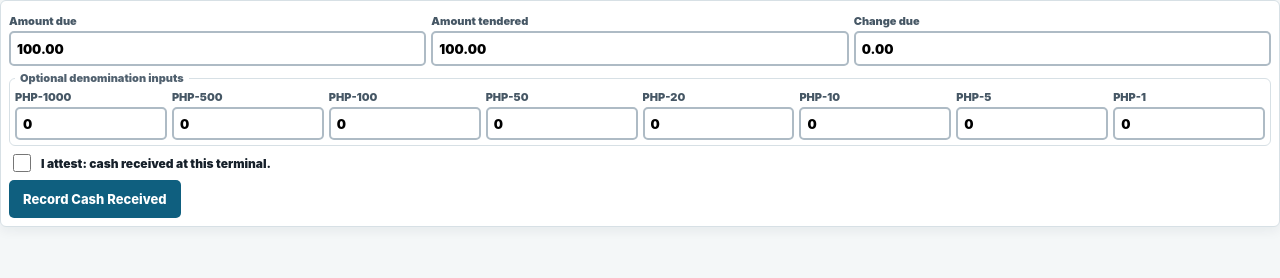
Test: CashCapturePanel › blocks CASH_RECEIVED when immediate statutory revalidation changes the amount
Step 1. Replace the text in the field labelled "Amount tendered" with "150" → (640, 48), box [431, 31, 849, 66]
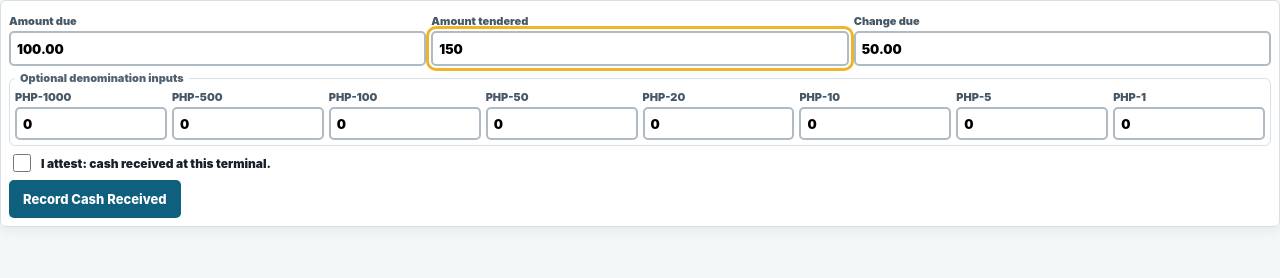
Step 2. Click the checkbox labelled "I attest: cash received at this terminal." → (22, 163), box [13, 154, 31, 172]
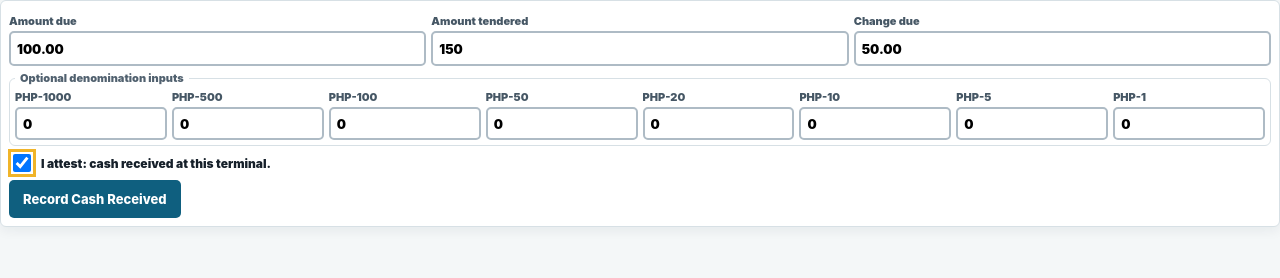
Step 3. Click the button "Record Cash Received" → (95, 199), box [9, 180, 180, 218]
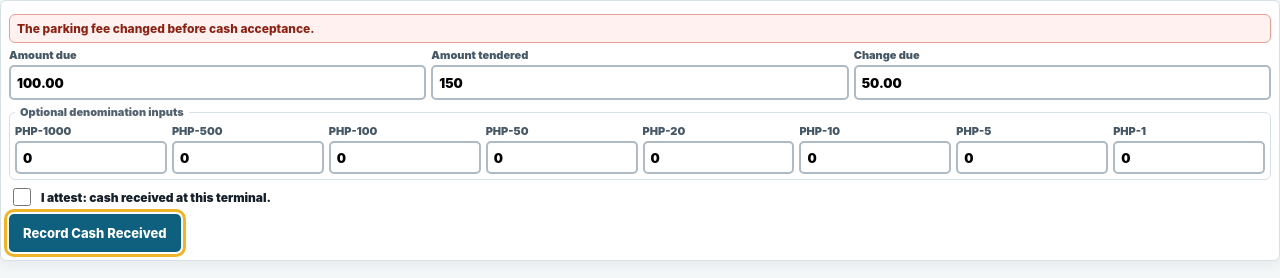
expect the text "The parking fee changed before cash acceptance." is shown: met, box [9, 14, 1271, 43]
